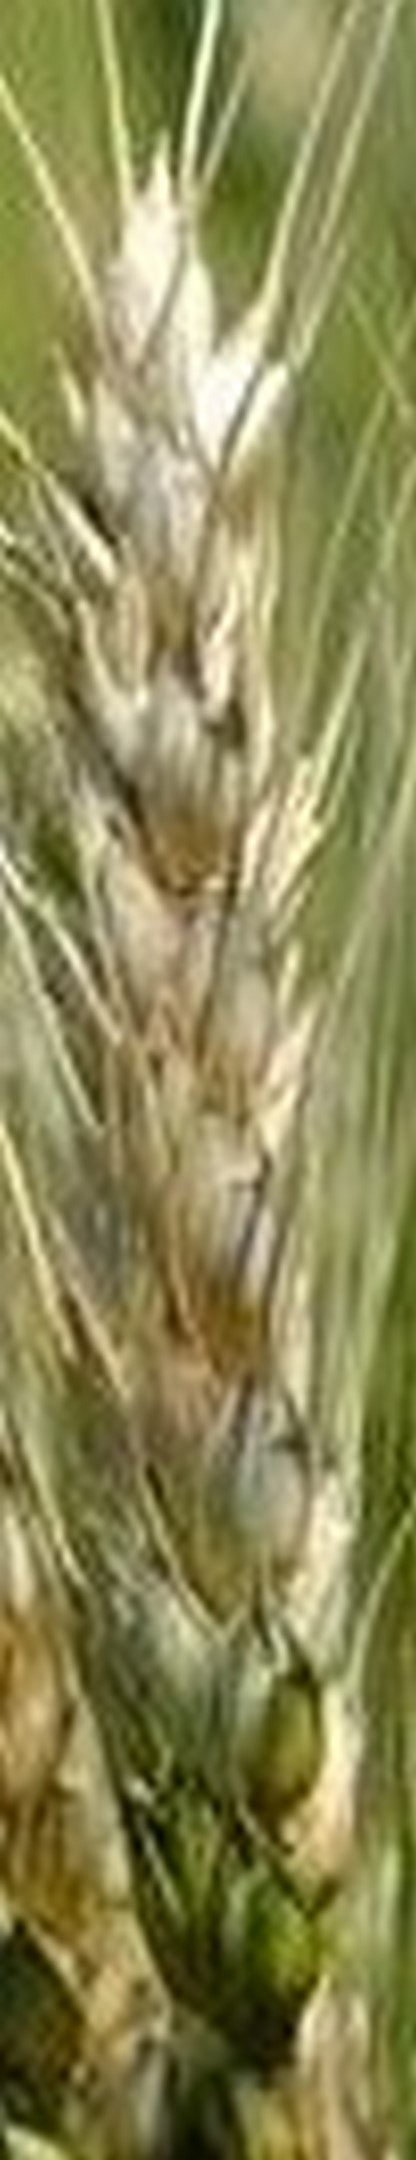Wheat scab: (58, 174, 416, 2015)
